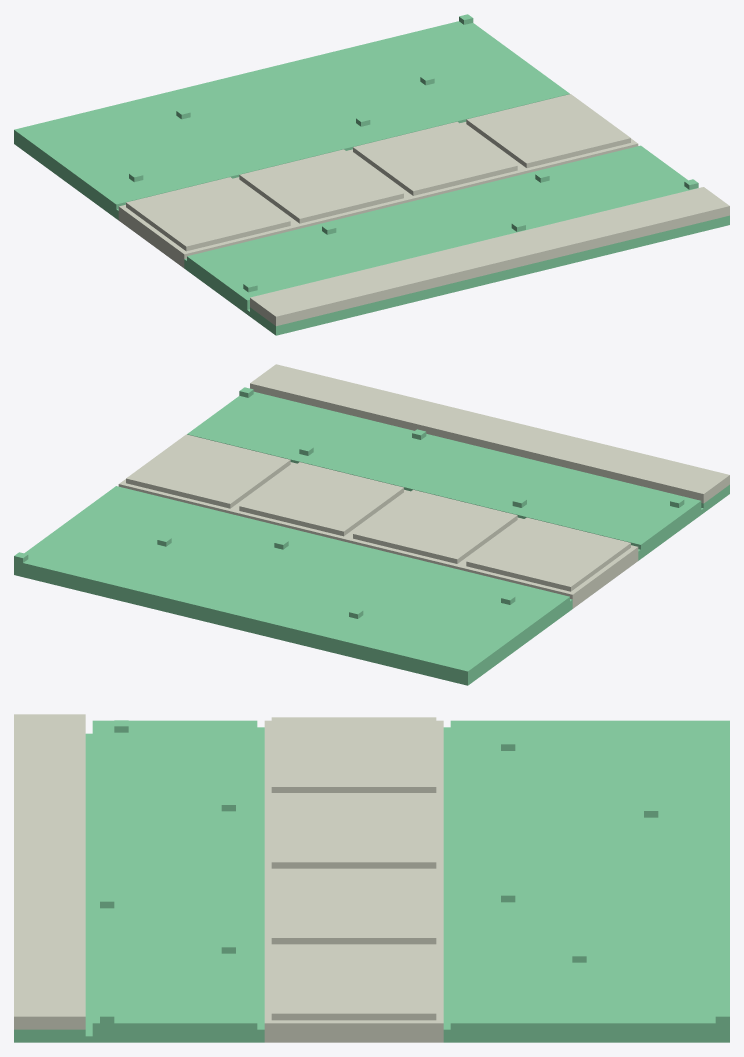
The model's file is Background_A_floor_01.FBX.
3 views of the same model, one above another, from view 1: azimuth 30°, elevation 25°; view 2: azimuth 150°, elevation 25°; view 3: azimuth 270°, elevation 25° (orthographic). The views are drawn at different scales.
Parts seen in each view (by area): view 1: Load_A-32; view 2: Load_A-32; view 3: Load_A-32.
Part boxes in pixels (<box>): Load_A-32: <box>14,14,729,335</box>; Load_A-32: <box>14,364,729,685</box>; Load_A-32: <box>14,714,729,1042</box>.
Bounding box in the file's own units: 10 × 0.4 × 10.
1 material, 1 textured.
